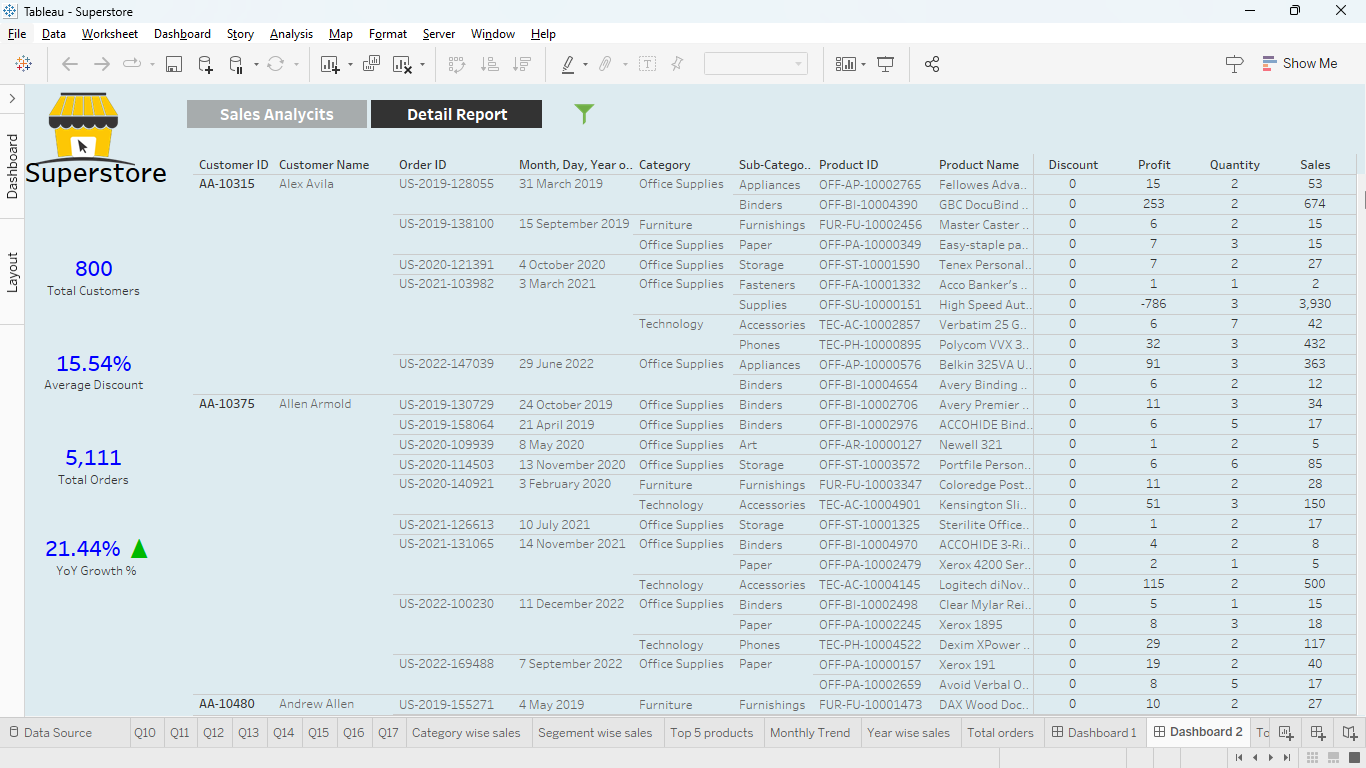

This screenshot's page, from the dashboard's own definition file:
{"tool":"tableau","page":{"name":"Dashboard 2","canvas":[1000,1000],"units":"permille","ordinal":1},"visuals":[{"type":"image","param":"C:/Users/ratan/OneDrive/Pictures/Store logo.png","box":[5,10,114,120]},{"type":"filter","title":"Details","param":"[federated.1n591da1jfszub11jpy521dzq3dk].[yr:Calculation_268527161149886471:ok]","box":[432,11.2,564,31.2]},{"type":"dashboard-object","box":[121,25,134,45]},{"type":"dashboard-object","box":[258,25,128,45]},{"type":"dashboard-object","box":[393,25,48,45]},{"type":"filter","title":"Details","param":"[federated.1n591da1jfszub11jpy521dzq3dk].[none:Region:nk]","box":[432,42.5,564,30]},{"type":"filter","title":"Details","param":"[federated.1n591da1jfszub11jpy521dzq3dk].[none:Category:nk]","box":[432,72.5,564,30]},{"type":"worksheet","title":"Total Avg","mark":"Automatic","box":[6.9,269,107.1,390.8]}]}

Visuals, with their boxes on the dashboard's canvas, which has no fixed pixel size, in thousandths of its width and height (x1, y1, x2, y2). These are canvas units, not pixel positions in the 1366x768 screenshot, which may show the page scaled, cropped or inside an application window:
image: box(5, 10, 119, 130)
"Details" filter: box(432, 11, 996, 42)
dashboard-object: box(121, 25, 255, 70)
dashboard-object: box(258, 25, 386, 70)
dashboard-object: box(393, 25, 441, 70)
"Details" filter: box(432, 42, 996, 72)
"Details" filter: box(432, 72, 996, 102)
"Total Avg" worksheet: box(7, 269, 114, 660)
